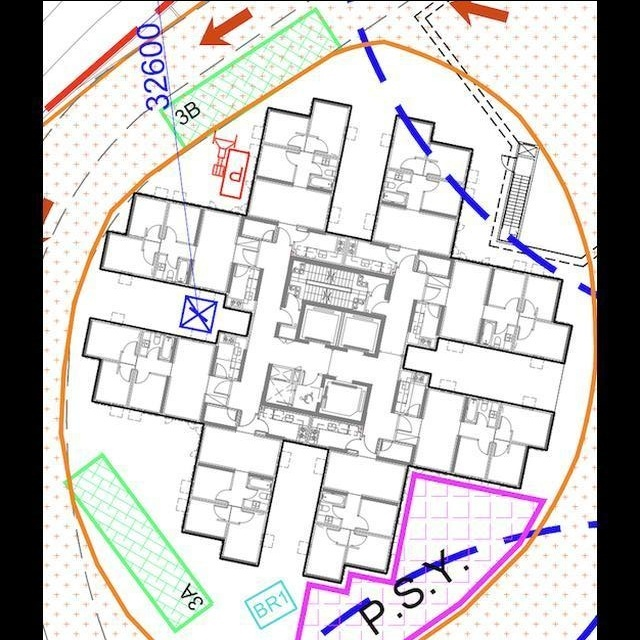tower_crane: (176, 293, 219, 337)
